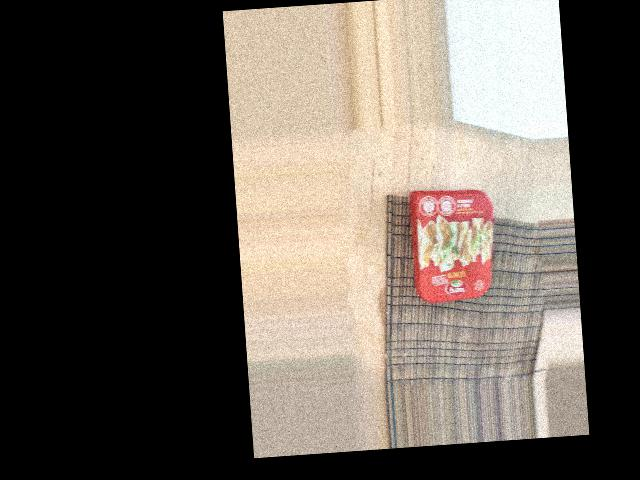cheese: (424, 243, 557, 342)
